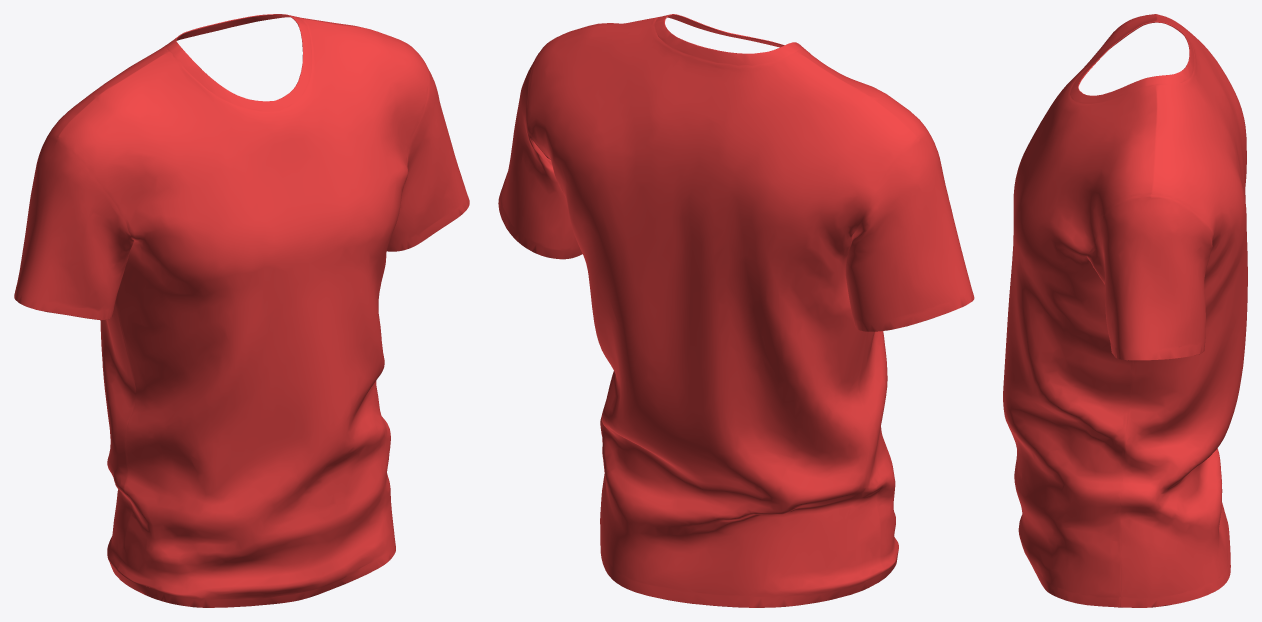
File: design-1761560895842-100165558.glb
3 views of the same model, side by side, from view 1: azimuth 30°, elevation 25°; view 2: azimuth 150°, elevation 25°; view 3: azimuth 270°, elevation 25° (orthographic). The views are drawn at different scales.
Size of the model in its own units: 1.1 by 1.23 by 0.5379.
